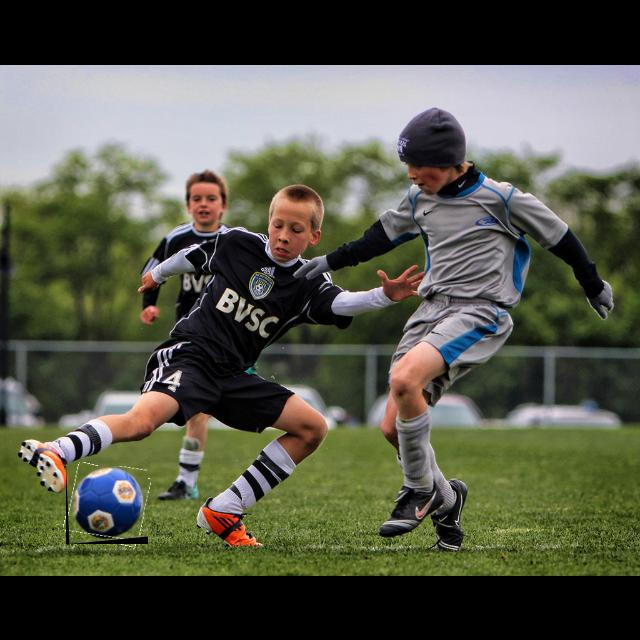Football: (66, 466, 148, 544)
